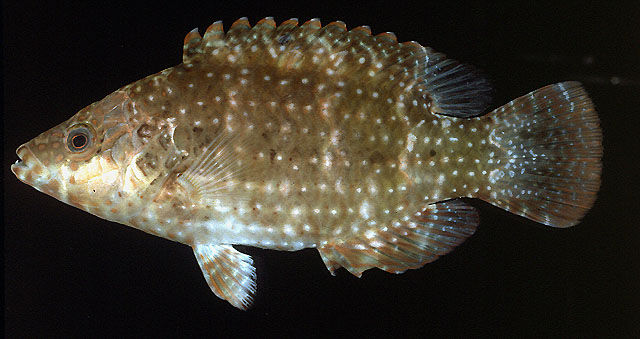fish: (13, 18, 602, 311)
